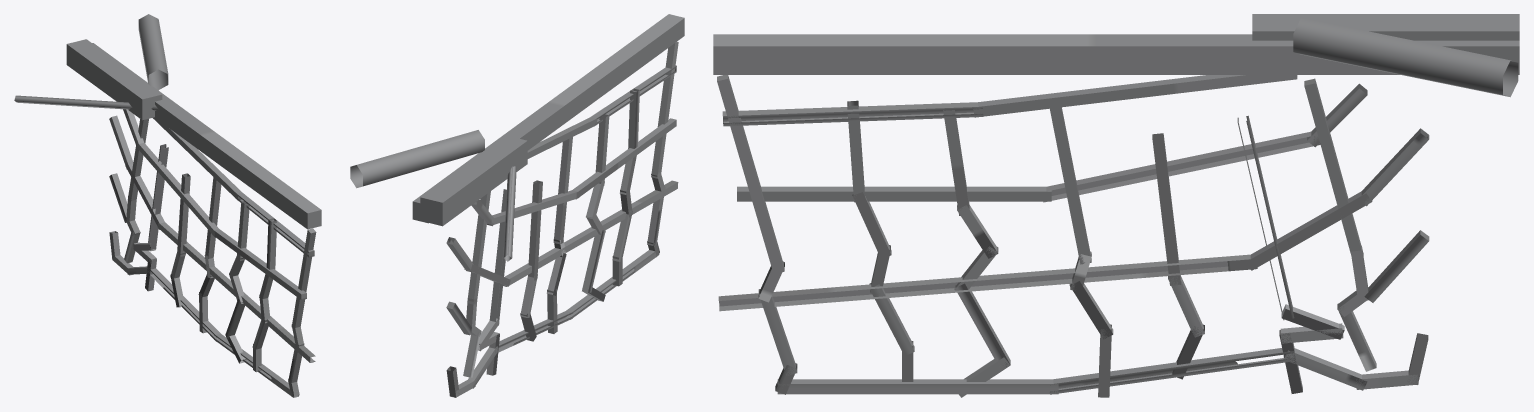
3 views of the same model, side by side, from view 1: azimuth 30°, elevation 25°; view 2: azimuth 150°, elevation 25°; view 3: azimuth 270°, elevation 25° (orthographic). The views are drawn at different scales.
Size of the model in its own units: 0.9391 by 1.37 by 2.57.
